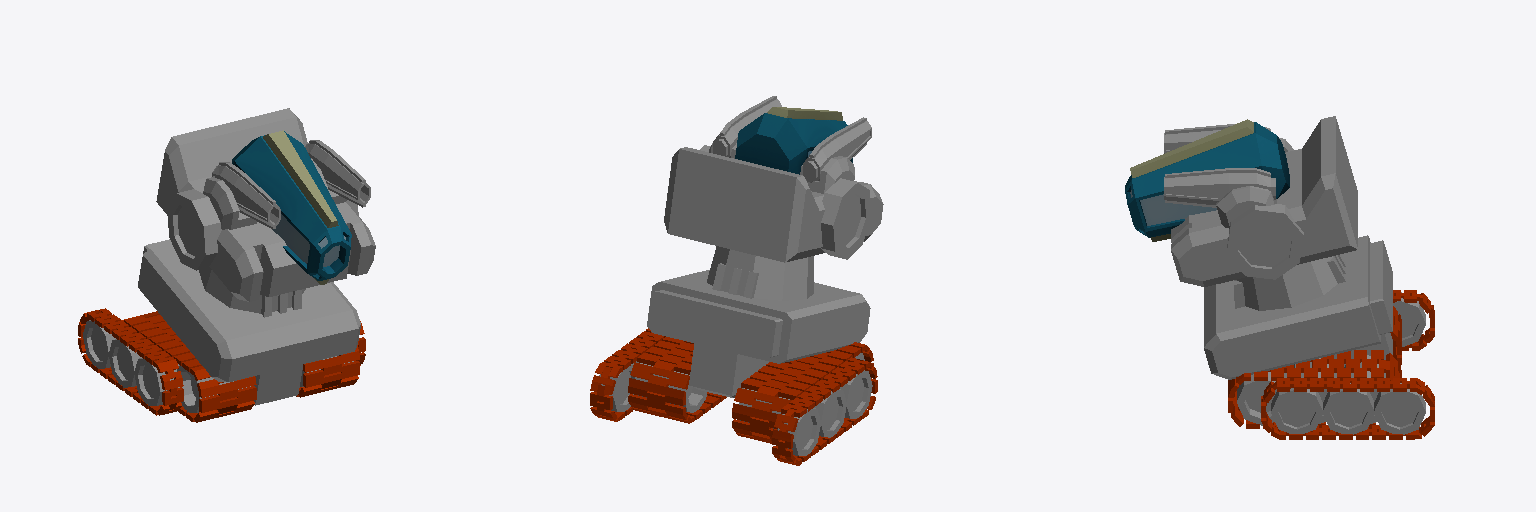
3 views of the same model, side by side, from view 1: azimuth 30°, elevation 25°; view 2: azimuth 150°, elevation 25°; view 3: azimuth 270°, elevation 25° (orthographic).
Parts seen in each view (by area): view 1: Object004, Object012, Box038, Box043, Object013, Box042, Object011; view 2: Object004, Box038, Box042, Box043, Object012, Object013, Box044, Object011, Object014; view 3: Object004, Object014, Box044, Object012, Box042, Object011, Object013, Box043.
Boxes of the visible parts, box(x1,y1,x2,y2) form: Object004: box(138, 108, 375, 405); Object012: box(212, 140, 370, 228); Box038: box(121, 311, 256, 422); Box043: box(78, 308, 183, 415); Object013: box(83, 320, 178, 405); Box042: box(296, 345, 359, 397); Object011: box(176, 356, 353, 412); Object004: box(647, 107, 883, 397); Box038: box(732, 342, 873, 443); Box042: box(628, 337, 726, 423); Box043: box(772, 357, 877, 465); Object012: box(713, 96, 871, 182); Object013: box(778, 370, 872, 455); Box044: box(590, 328, 665, 421); Object011: box(635, 353, 864, 429); Object014: box(599, 361, 638, 411); Object004: box(1125, 116, 1392, 379); Object014: box(1271, 383, 1425, 434); Box044: box(1261, 378, 1434, 439); Object012: box(1164, 124, 1275, 207); Box042: box(1228, 350, 1401, 428); Object011: box(1237, 355, 1385, 425); Object013: box(1392, 292, 1425, 346); Box043: box(1393, 290, 1434, 350).
Bounding box in the file's own units: 139 × 179 × 187.
Materials: 4 (1 with a texture image).